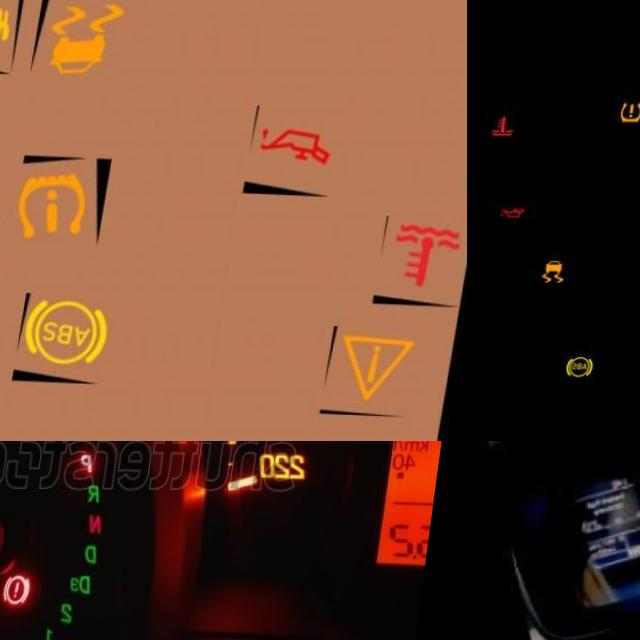High Engine Coolant Temperature: (495, 112, 526, 140)
